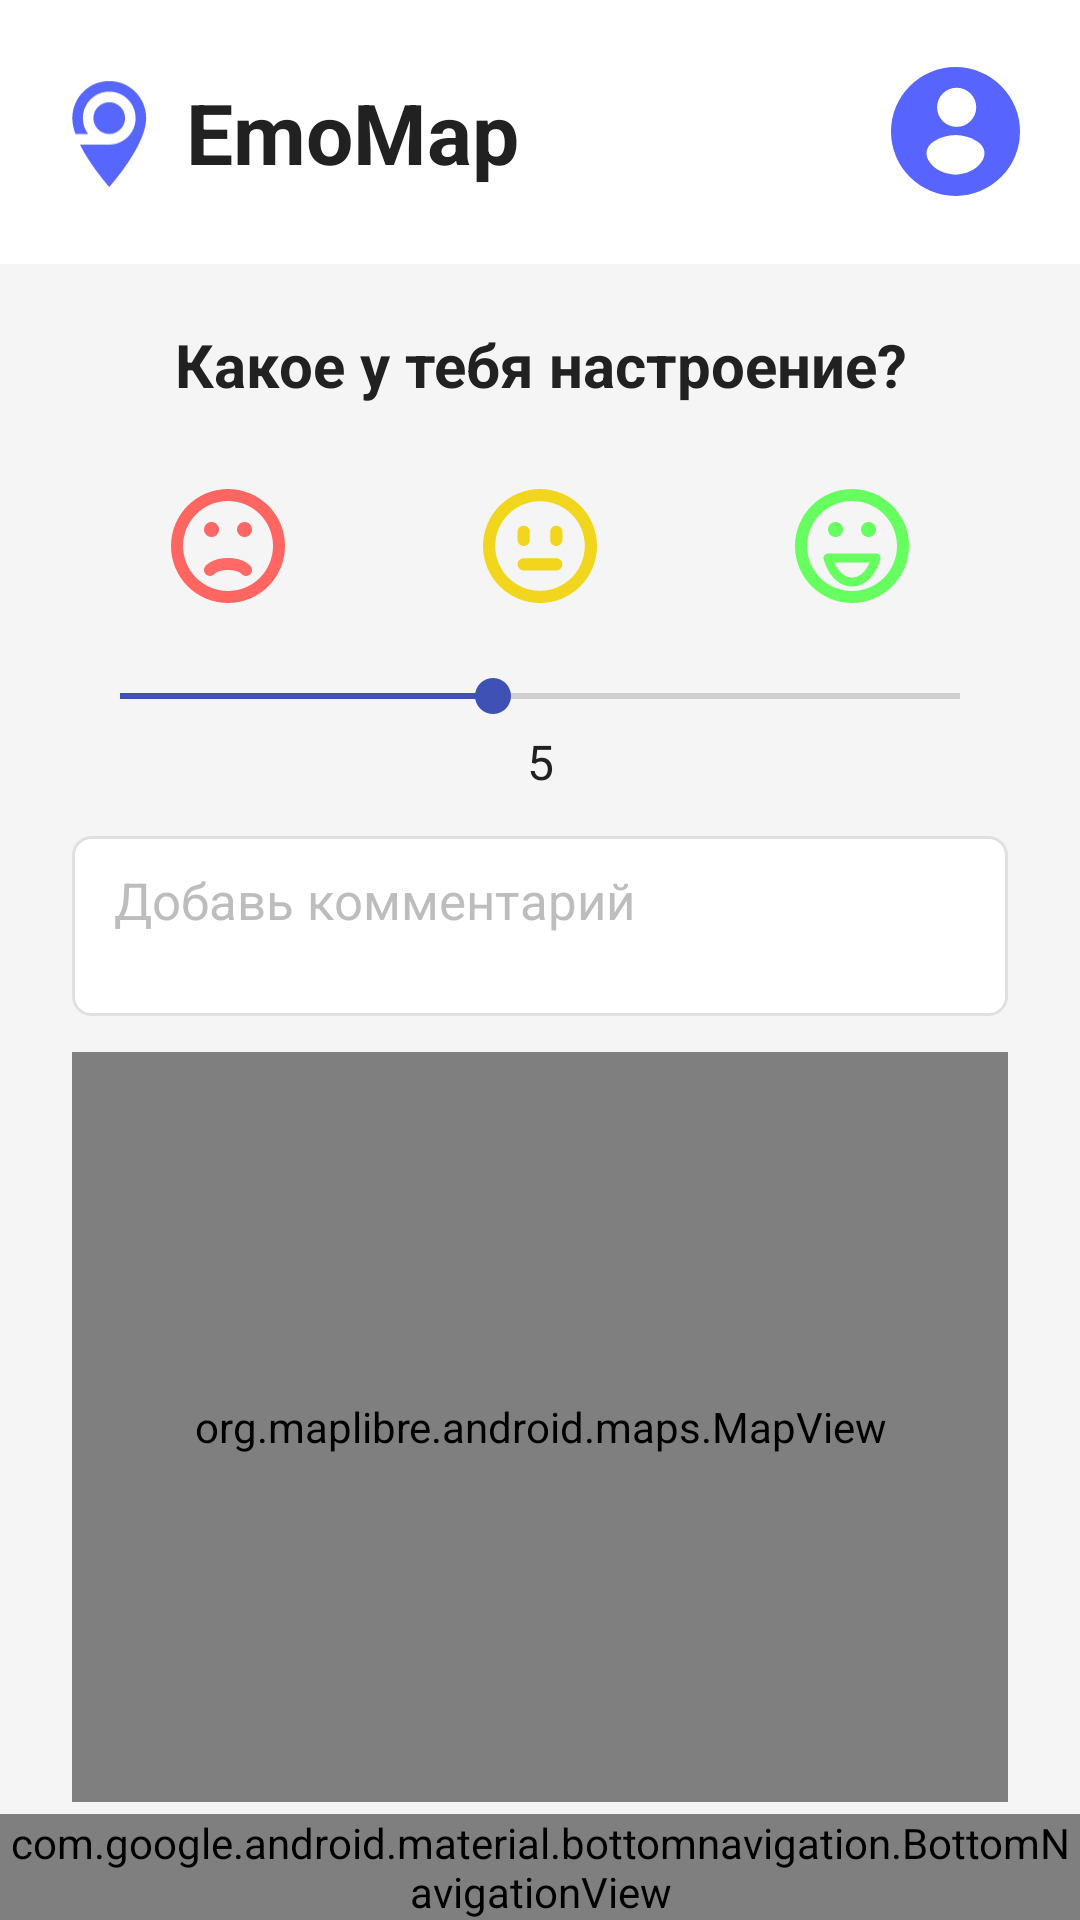

Named icons in this screenshot (1080 x 1920) and their bounding boxes, (x1, y1, x2, y2):
Грустное: (171, 489, 285, 603)
Нейтральное: (483, 489, 597, 603)
Профиль: (891, 67, 1020, 196)
Радостное: (795, 489, 909, 603)
